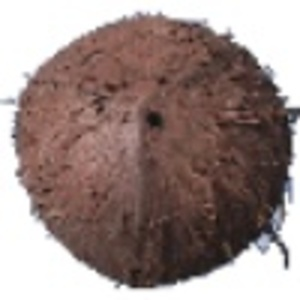coco: (1, 9, 300, 291)
